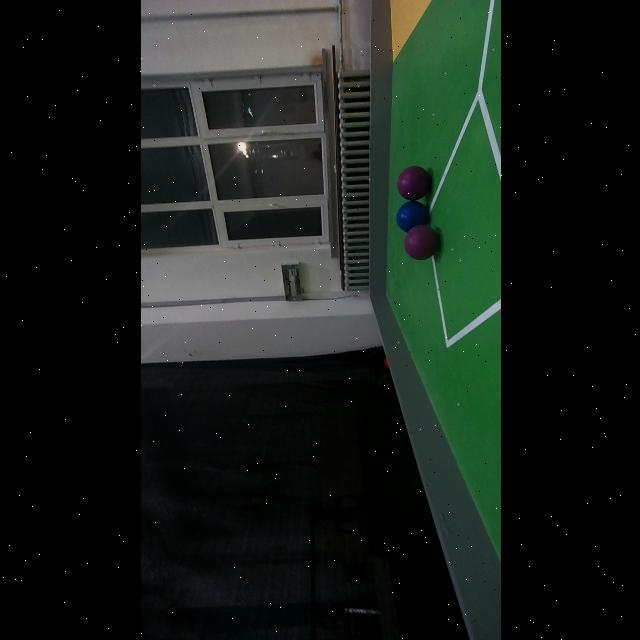B: (396, 201, 428, 233)
P: (404, 226, 438, 260), (397, 166, 431, 200)
